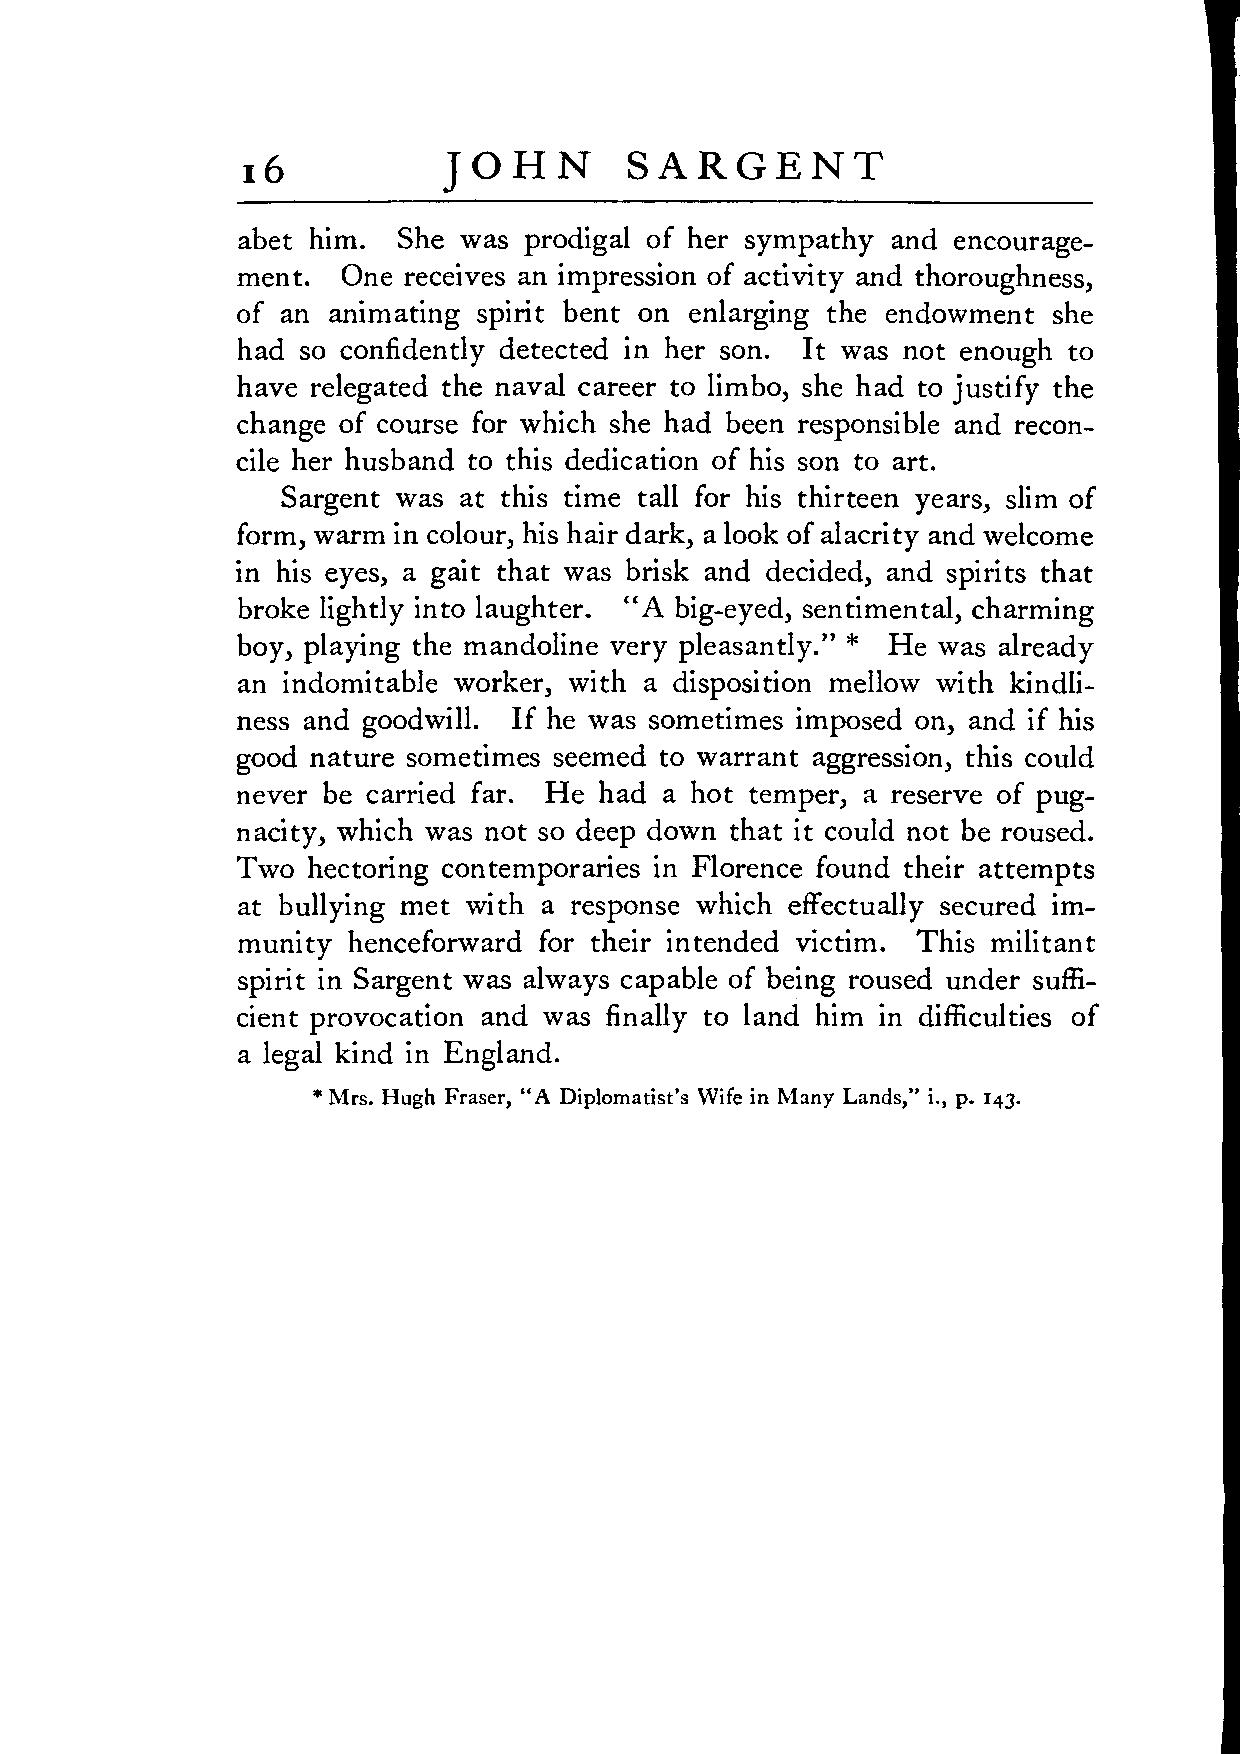content: (231, 219, 1103, 1114)
content_chapter: (432, 146, 884, 192)
content_pagenumber: (238, 154, 293, 184)
